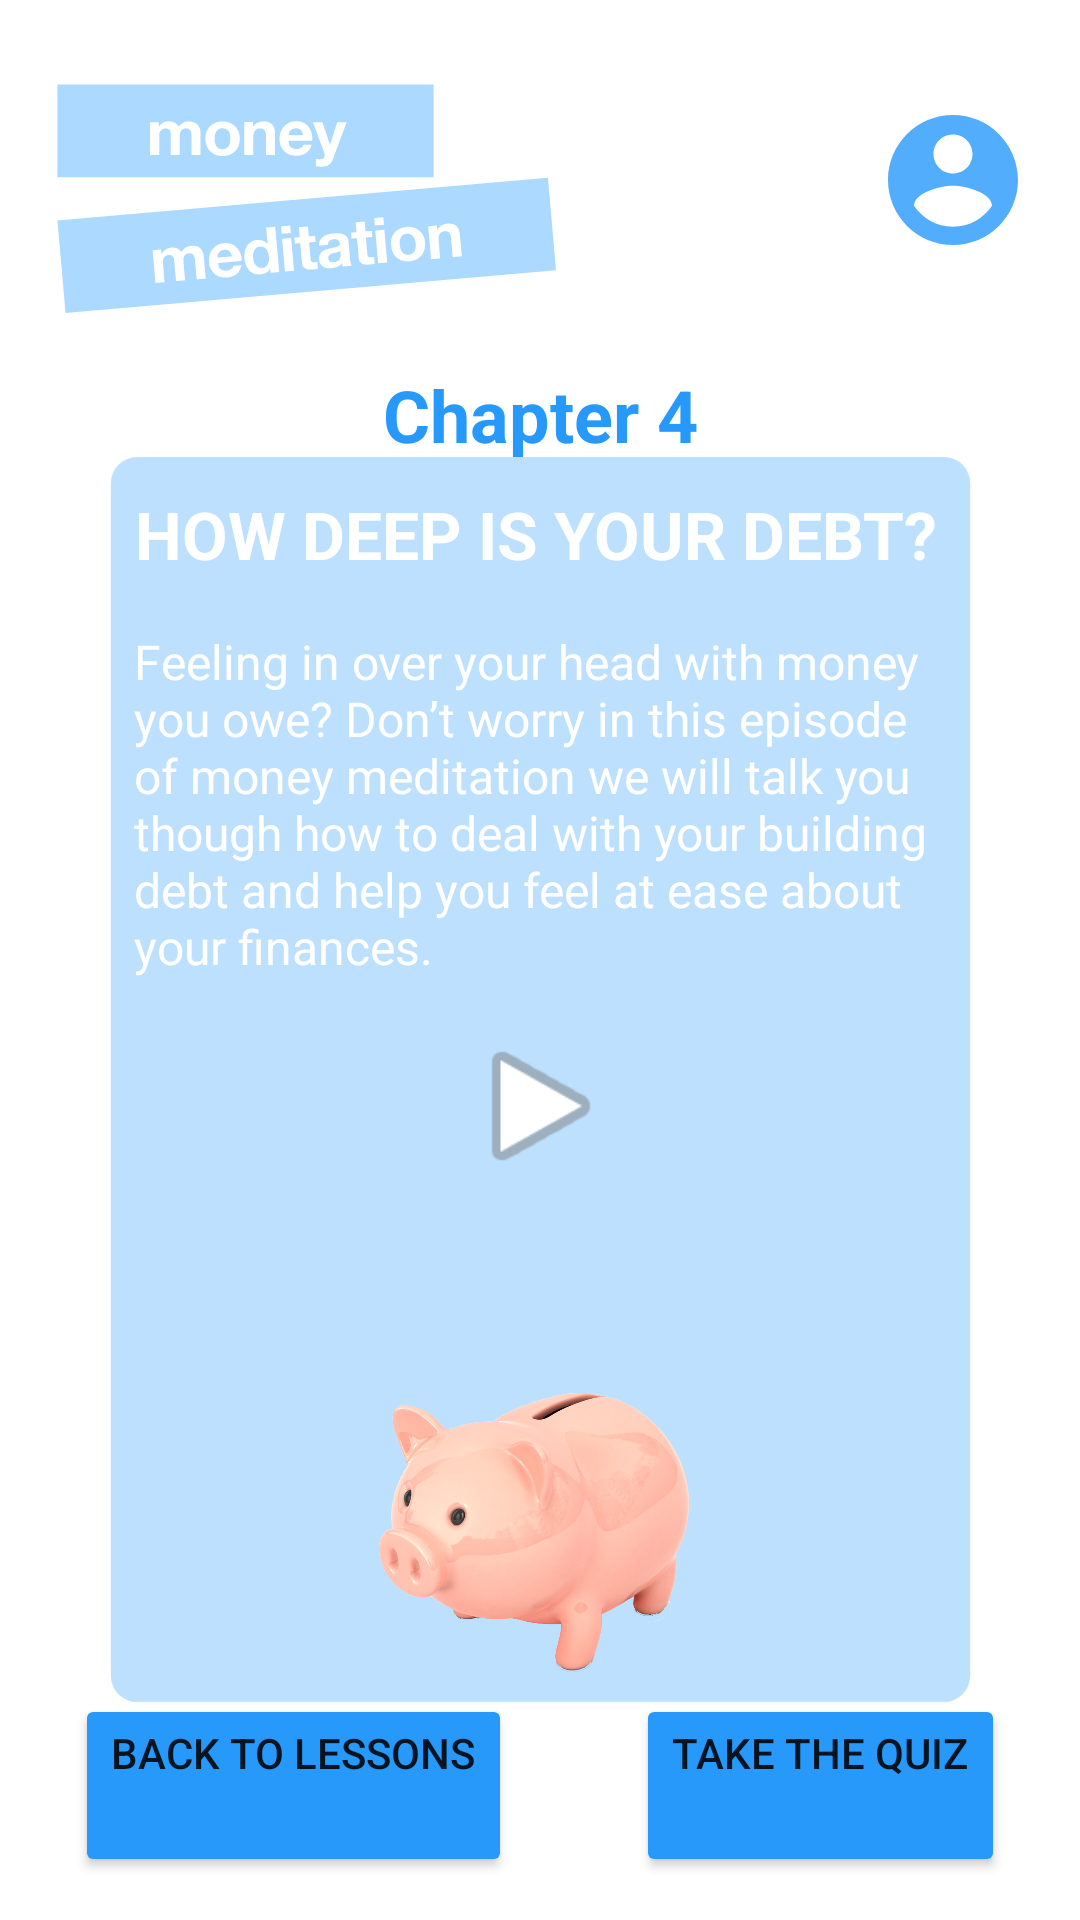

Screen size 1080×1920. Icon name, then its center in pixels as point (x, y):
account: point (953, 180)
pig: point (534, 1532)
play: point (541, 1106)
